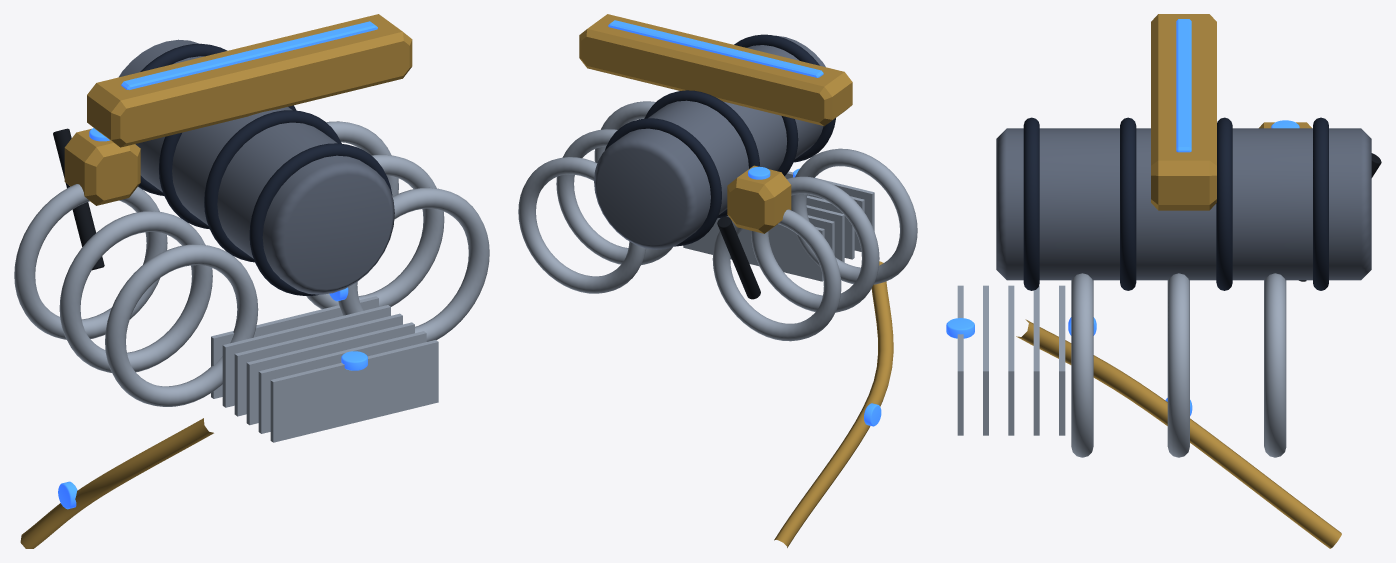
Rendered from tower_lance_rate_s6.glb.
3 views of the same model, side by side, from view 1: azimuth 30°, elevation 25°; view 2: azimuth 150°, elevation 25°; view 3: azimuth 270°, elevation 25° (orthographic). The views are drawn at different scales.
Parts seen in each view (by area): view 1: lance_capacitor_c, lance_breech_sink, lance_bus_bar_heavy, lance_cap_cover_r0, lance_cap_cover_r1, lance_cap_cover_r2, lance_cap_cover_l0, lance_bus_tap, lance_coolant_line, lance_cap_cover_l1, lance_cap_rib_c0, lance_cap_rib_c1 (+5 smaller); view 2: lance_capacitor_c, lance_bus_bar_heavy, lance_breech_sink, lance_cap_cover_r2, lance_cap_cover_r1, lance_cap_cover_l2, lance_cap_cover_r0, lance_coolant_line, lance_bus_tap, lance_cap_cover_l1, lance_cap_rib_c3, lance_bus_bar_glow (+5 smaller); view 3: lance_capacitor_c, lance_bus_bar_heavy, lance_coolant_line, lance_breech_sink, lance_cap_cover_l1, lance_cap_cover_l0, lance_cap_cover_l2, lance_cap_rib_c0, lance_cap_rib_c1, lance_cap_rib_c2, lance_cap_rib_c3, lance_bus_bar_glow.
Boxes of the visible parts, x1=… form: lance_capacitor_c: x1=119, y1=39, x2=394, y2=294; lance_breech_sink: x1=211, y1=296, x2=438, y2=442; lance_bus_bar_heavy: x1=87, y1=14, x2=412, y2=147; lance_cap_cover_r0: x1=105, y1=244, x2=258, y2=406; lance_cap_cover_r1: x1=59, y1=211, x2=212, y2=372; lance_cap_cover_r2: x1=14, y1=184, x2=167, y2=339; lance_cap_cover_l0: x1=338, y1=187, x2=489, y2=341; lance_bus_tap: x1=64, y1=128, x2=140, y2=205; lance_coolant_line: x1=20, y1=418, x2=213, y2=548; lance_cap_cover_l1: x1=306, y1=154, x2=444, y2=309; lance_cap_rib_c0: x1=249, y1=143, x2=392, y2=295; lance_cap_rib_c1: x1=204, y1=110, x2=341, y2=262; lance_capacitor_c: x1=594, y1=35, x2=825, y2=249; lance_bus_bar_heavy: x1=579, y1=14, x2=852, y2=126; lance_breech_sink: x1=683, y1=171, x2=874, y2=281; lance_cap_cover_r2: x1=712, y1=209, x2=841, y2=341; lance_cap_cover_r1: x1=751, y1=176, x2=879, y2=312; lance_cap_cover_l2: x1=518, y1=157, x2=645, y2=293; lance_cap_cover_r0: x1=791, y1=148, x2=917, y2=284; lance_coolant_line: x1=774, y1=261, x2=893, y2=547; lance_bus_tap: x1=727, y1=165, x2=791, y2=233; lance_cap_cover_l1: x1=556, y1=129, x2=672, y2=264; lance_cap_rib_c3: x1=605, y1=118, x2=721, y2=246; lance_bus_bar_glow: x1=608, y1=20, x2=823, y2=77; lance_capacitor_c: x1=996, y1=128, x2=1371, y2=280; lance_bus_bar_heavy: x1=1151, y1=14, x2=1216, y2=210; lance_coolant_line: x1=1016, y1=319, x2=1341, y2=548; lance_breech_sink: x1=957, y1=285, x2=1065, y2=435; lance_cap_cover_l1: x1=1167, y1=273, x2=1189, y2=457; lance_cap_cover_l0: x1=1071, y1=273, x2=1093, y2=457; lance_cap_cover_l2: x1=1264, y1=273, x2=1286, y2=457; lance_cap_rib_c0: x1=1023, y1=117, x2=1039, y2=290; lance_cap_rib_c1: x1=1120, y1=117, x2=1136, y2=290; lance_cap_rib_c2: x1=1216, y1=117, x2=1232, y2=290; lance_cap_rib_c3: x1=1313, y1=117, x2=1328, y2=290; lance_bus_bar_glow: x1=1176, y1=19, x2=1191, y2=152.
Bounding box in the file's own units: 0.924 × 1.18 × 0.8573.
